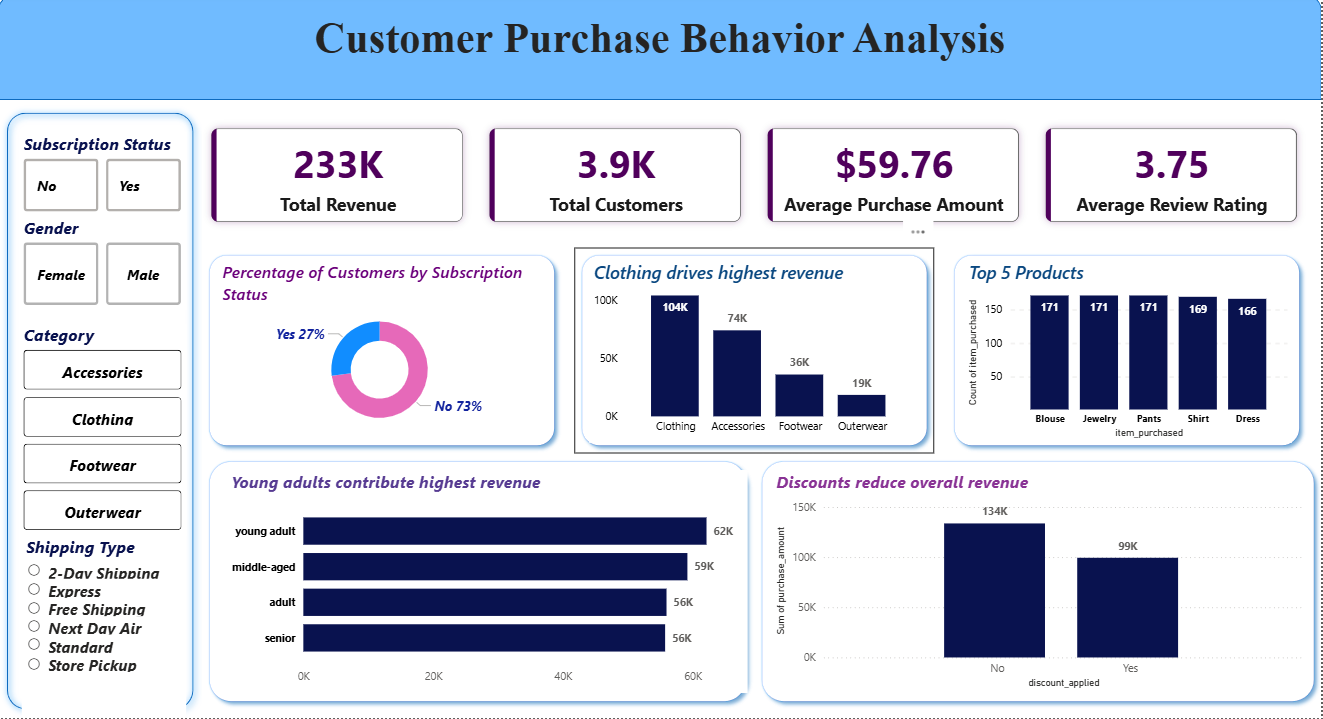

The page's visual inventory and layout, read from the dashboard file:
{"tool":"powerbi","page":{"name":"Page 1","canvas":[1500,820],"ordinal":0},"visuals":[{"type":"cardVisual","fields":{"Data":["customer_behavior customers.Total Revenue","customer_behavior customers.number of customers","customer_behavior customers.Average Purchase Amount","customer_behavior customers.Average Review Rating"]},"box":[213.9,123.8,1286.5,162.4],"z":0},{"type":"shape","box":[0,0,1500.3,119],"z":1000},{"type":"textbox","box":[0,17.7,1500.3,82],"z":2000},{"type":"shape","box":[231.6,286.2,408.4,233.2],"z":3000},{"type":"donutChart","title":"Percentage of Customers by Subscription  Status","fields":{"Category":["customer_behavior customers.subscription_status"],"Y":["CountNonNull(customer_behavior customers.customer_id)"]},"box":[249.3,300.7,366.6,199.4],"z":4000},{"type":"shape","box":[652.9,286.2,408.4,233.2],"z":5000},{"type":"shape","box":[1075.8,286.2,408.4,233.2],"z":6000},{"type":"clusteredColumnChart","title":"Clothing drives highest revenue","fields":{"Y":["Sum(customer_behavior customers.purchase_amount)"],"Category":["customer_behavior customers.category"]},"box":[670.6,300.7,371.5,207.4],"z":7000},{"type":"clusteredColumnChart","title":"Top 5 Products","fields":{"Category":["customer_behavior customers.item_purchased"],"Y":["CountNonNull(customer_behavior customers.item_purchased)"]},"box":[1095.1,300.7,371.5,207.4],"z":8000},{"type":"shape","box":[0,123.8,231.6,696.3],"z":9000},{"type":"advancedSlicerVisual","title":"Subscription Status","fields":{"Values":["customer_behavior customers.subscription_status"]},"box":[24.1,156,189.8,94.9],"z":10000},{"type":"advancedSlicerVisual","title":"Gender","fields":{"Values":["customer_behavior customers.gender"]},"box":[24.1,250.9,189.8,106.1],"z":11000},{"type":"advancedSlicerVisual","title":"Category","fields":{"Values":["customer_behavior customers.category"]},"box":[24.1,373.1,189.8,239.6],"z":12000},{"type":"listSlicer","title":"Shipping Type","fields":{"Values":["customer_behavior customers.shipping_type"]},"box":[27.3,612.7,186.5,207.4],"z":13000},{"type":"shape","box":[231.6,519.4,625.5,289.5],"z":14000},{"type":"clusteredBarChart","title":"Young adults contribute highest revenue","fields":{"Y":["Sum(customer_behavior customers.purchase_amount)"],"Category":["customer_behavior customers.age_group"]},"box":[258.9,538.7,590.2,252.5],"z":15000},{"type":"shape","box":[857.1,519.4,643.2,289.5],"z":16000},{"type":"clusteredColumnChart","title":"Discounts reduce overall revenue","fields":{"Category":["customer_behavior customers.discount_applied"],"Y":["Sum(customer_behavior customers.purchase_amount)"]},"box":[876.4,538.7,607.8,252.5],"z":17000}]}

Visuals, with their boxes in screenshot pixels (x1, y1, x2, y2), scaled from the page's 1500x820 canvas onto the 1323x719 screenshot:
cardVisual - customer_behavior customers.Total Revenue x customer_behavior customers.number of customers: bbox(189, 109, 1322, 251)
shape: bbox(0, 0, 1322, 104)
textbox: bbox(0, 16, 1322, 87)
shape: bbox(204, 251, 564, 455)
"Percentage of Customers by Subscription  Status" donutChart: bbox(220, 264, 543, 439)
shape: bbox(576, 251, 936, 455)
shape: bbox(949, 251, 1309, 455)
"Clothing drives highest revenue" clusteredColumnChart: bbox(591, 264, 919, 446)
"Top 5 Products" clusteredColumnChart: bbox(966, 264, 1294, 446)
shape: bbox(0, 109, 204, 718)
"Subscription Status" advancedSlicerVisual: bbox(21, 137, 189, 220)
"Gender" advancedSlicerVisual: bbox(21, 220, 189, 313)
"Category" advancedSlicerVisual: bbox(21, 327, 189, 537)
"Shipping Type" listSlicer: bbox(24, 537, 189, 718)
shape: bbox(204, 455, 756, 709)
"Young adults contribute highest revenue" clusteredBarChart: bbox(228, 472, 749, 694)
shape: bbox(756, 455, 1322, 709)
"Discounts reduce overall revenue" clusteredColumnChart: bbox(773, 472, 1309, 694)
